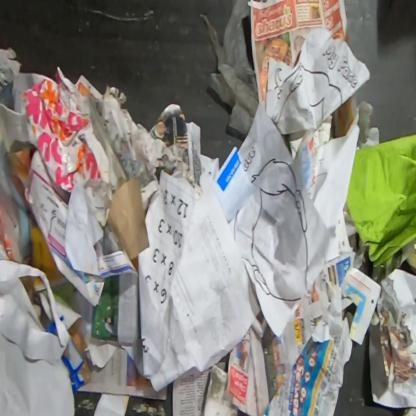cardboard: (346, 130, 415, 268)
soft_plastic: (199, 0, 260, 136)
